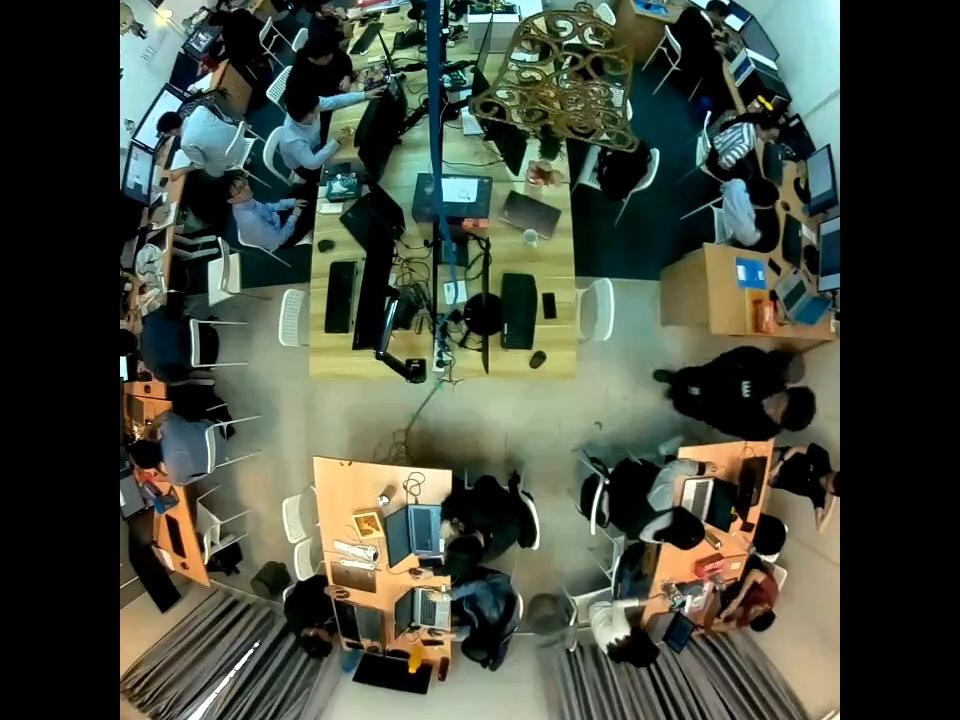name-tag: (740, 378, 752, 398)
